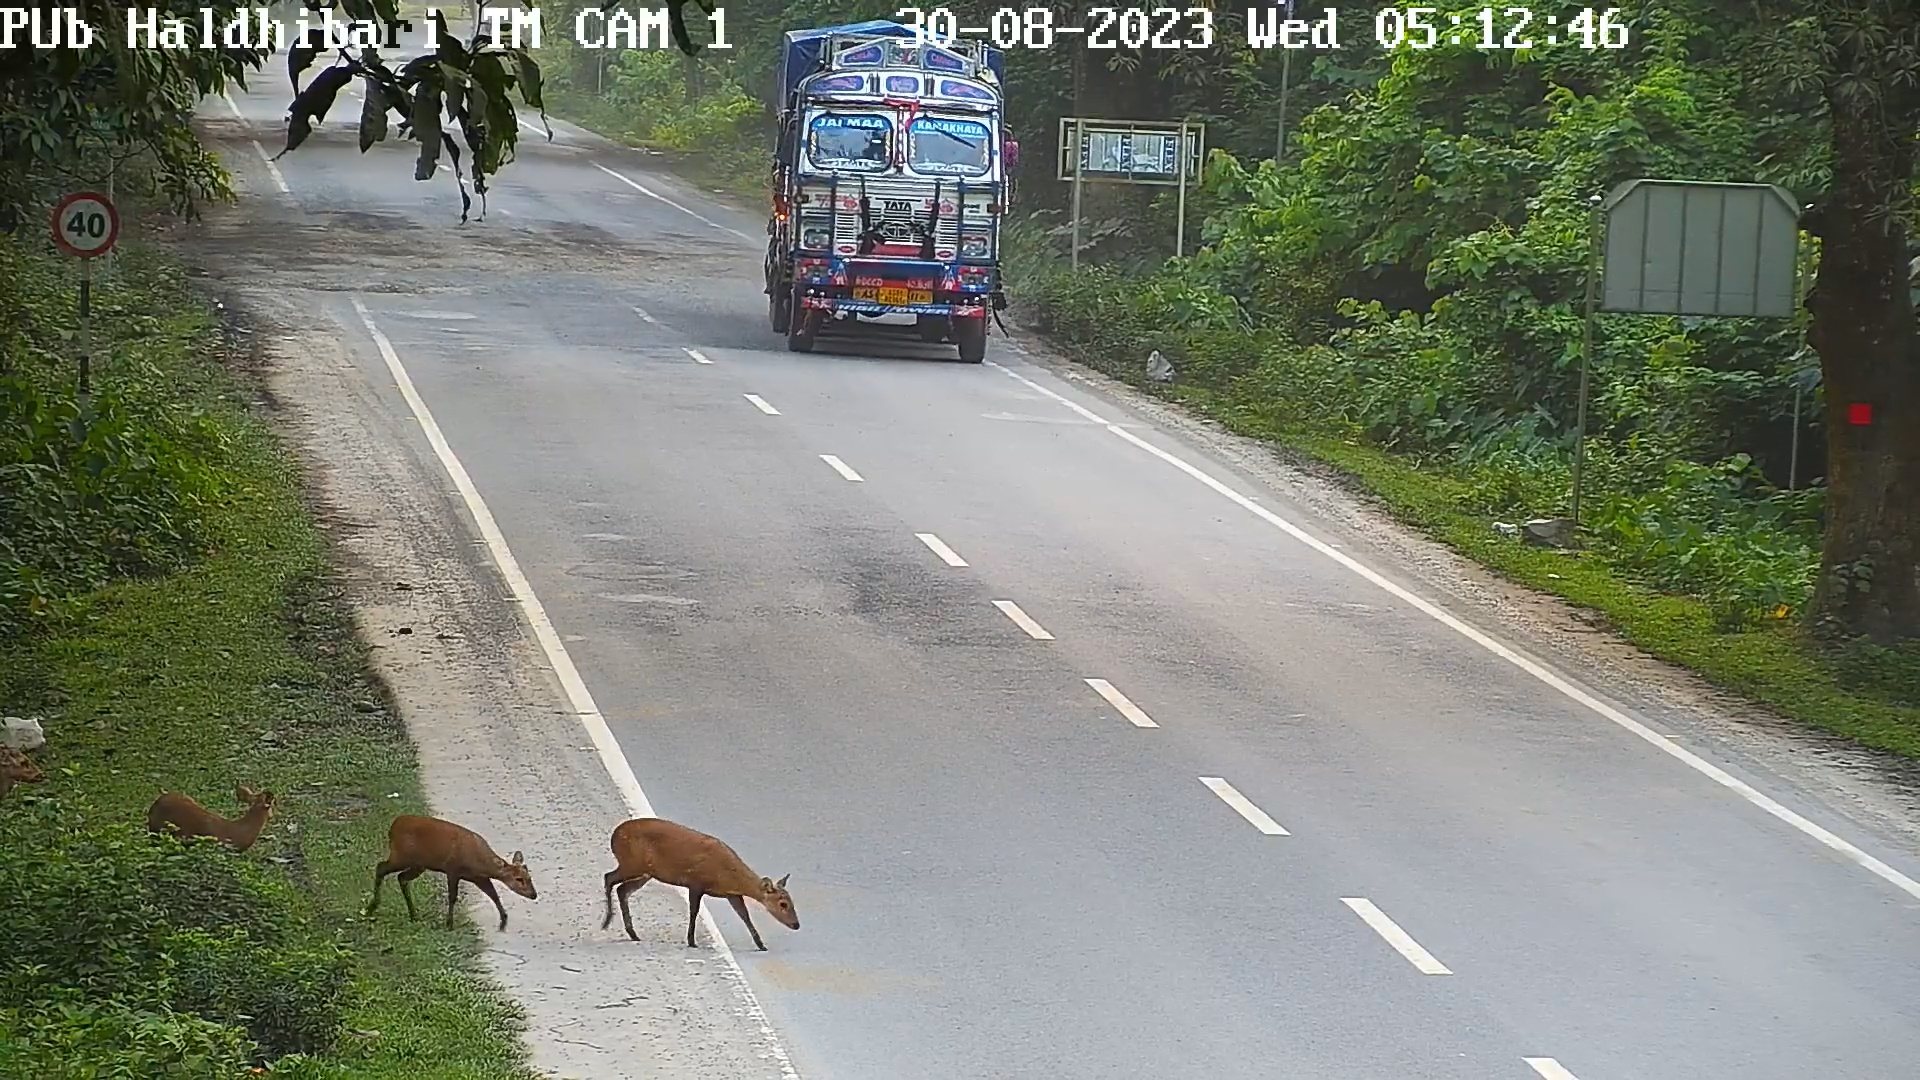deers: (603, 819, 803, 959), (364, 812, 535, 952), (124, 769, 285, 889), (0, 696, 47, 836)
